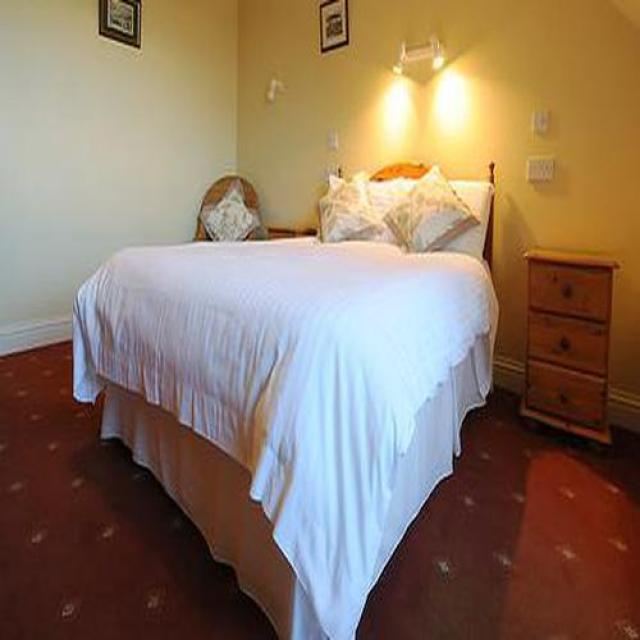bed: (74, 163, 499, 640)
table: (521, 252, 616, 444)
